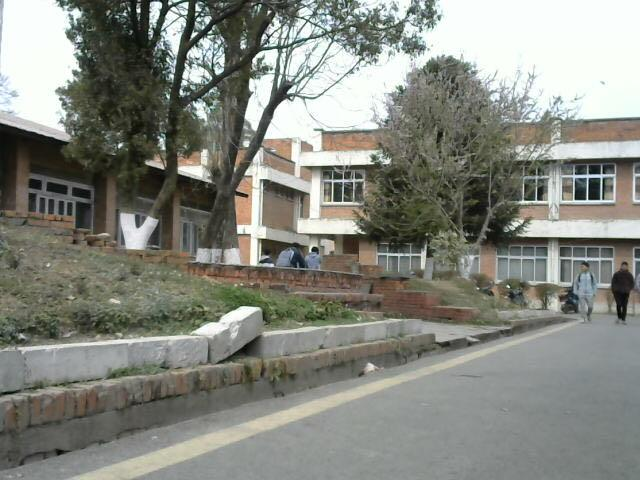Person: (574, 255, 603, 329), (613, 258, 640, 332)
Road: (10, 316, 640, 480)
Tree: (49, 0, 304, 270), (388, 60, 505, 264)
